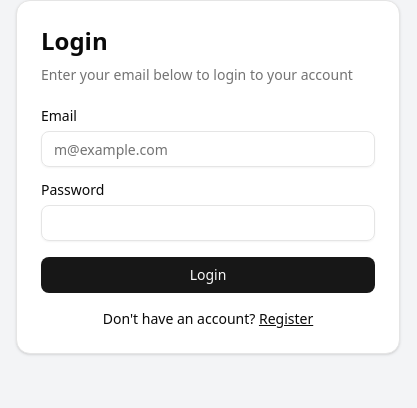
Test: The Login Page Use Cases › 4. should display "An unexpected error occurred" for a network failure
The image size is (417, 408).
Attempt to log in
Type "network@fail.com" into the field labelled "Email".
click(208, 149); type("network@fail.com")  # box [41, 131, 375, 167]
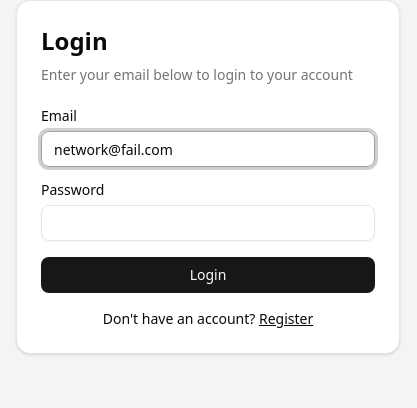
Type "anypassword" into the password field labelled "Password".
click(208, 223); type("anypassword")  # box [41, 205, 375, 241]
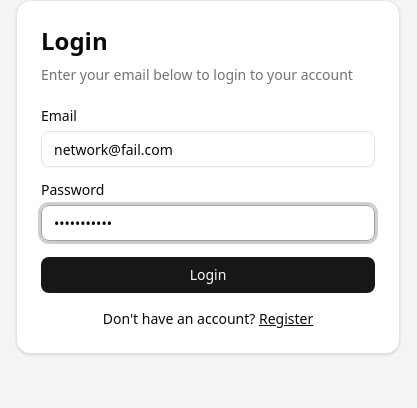
Click the button "Login".
click(208, 275)  # box [41, 257, 375, 293]
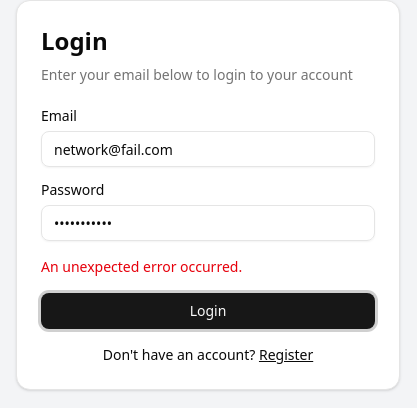
Result: the text "An unexpected error occurred." is shown at [41, 257, 242, 276]
